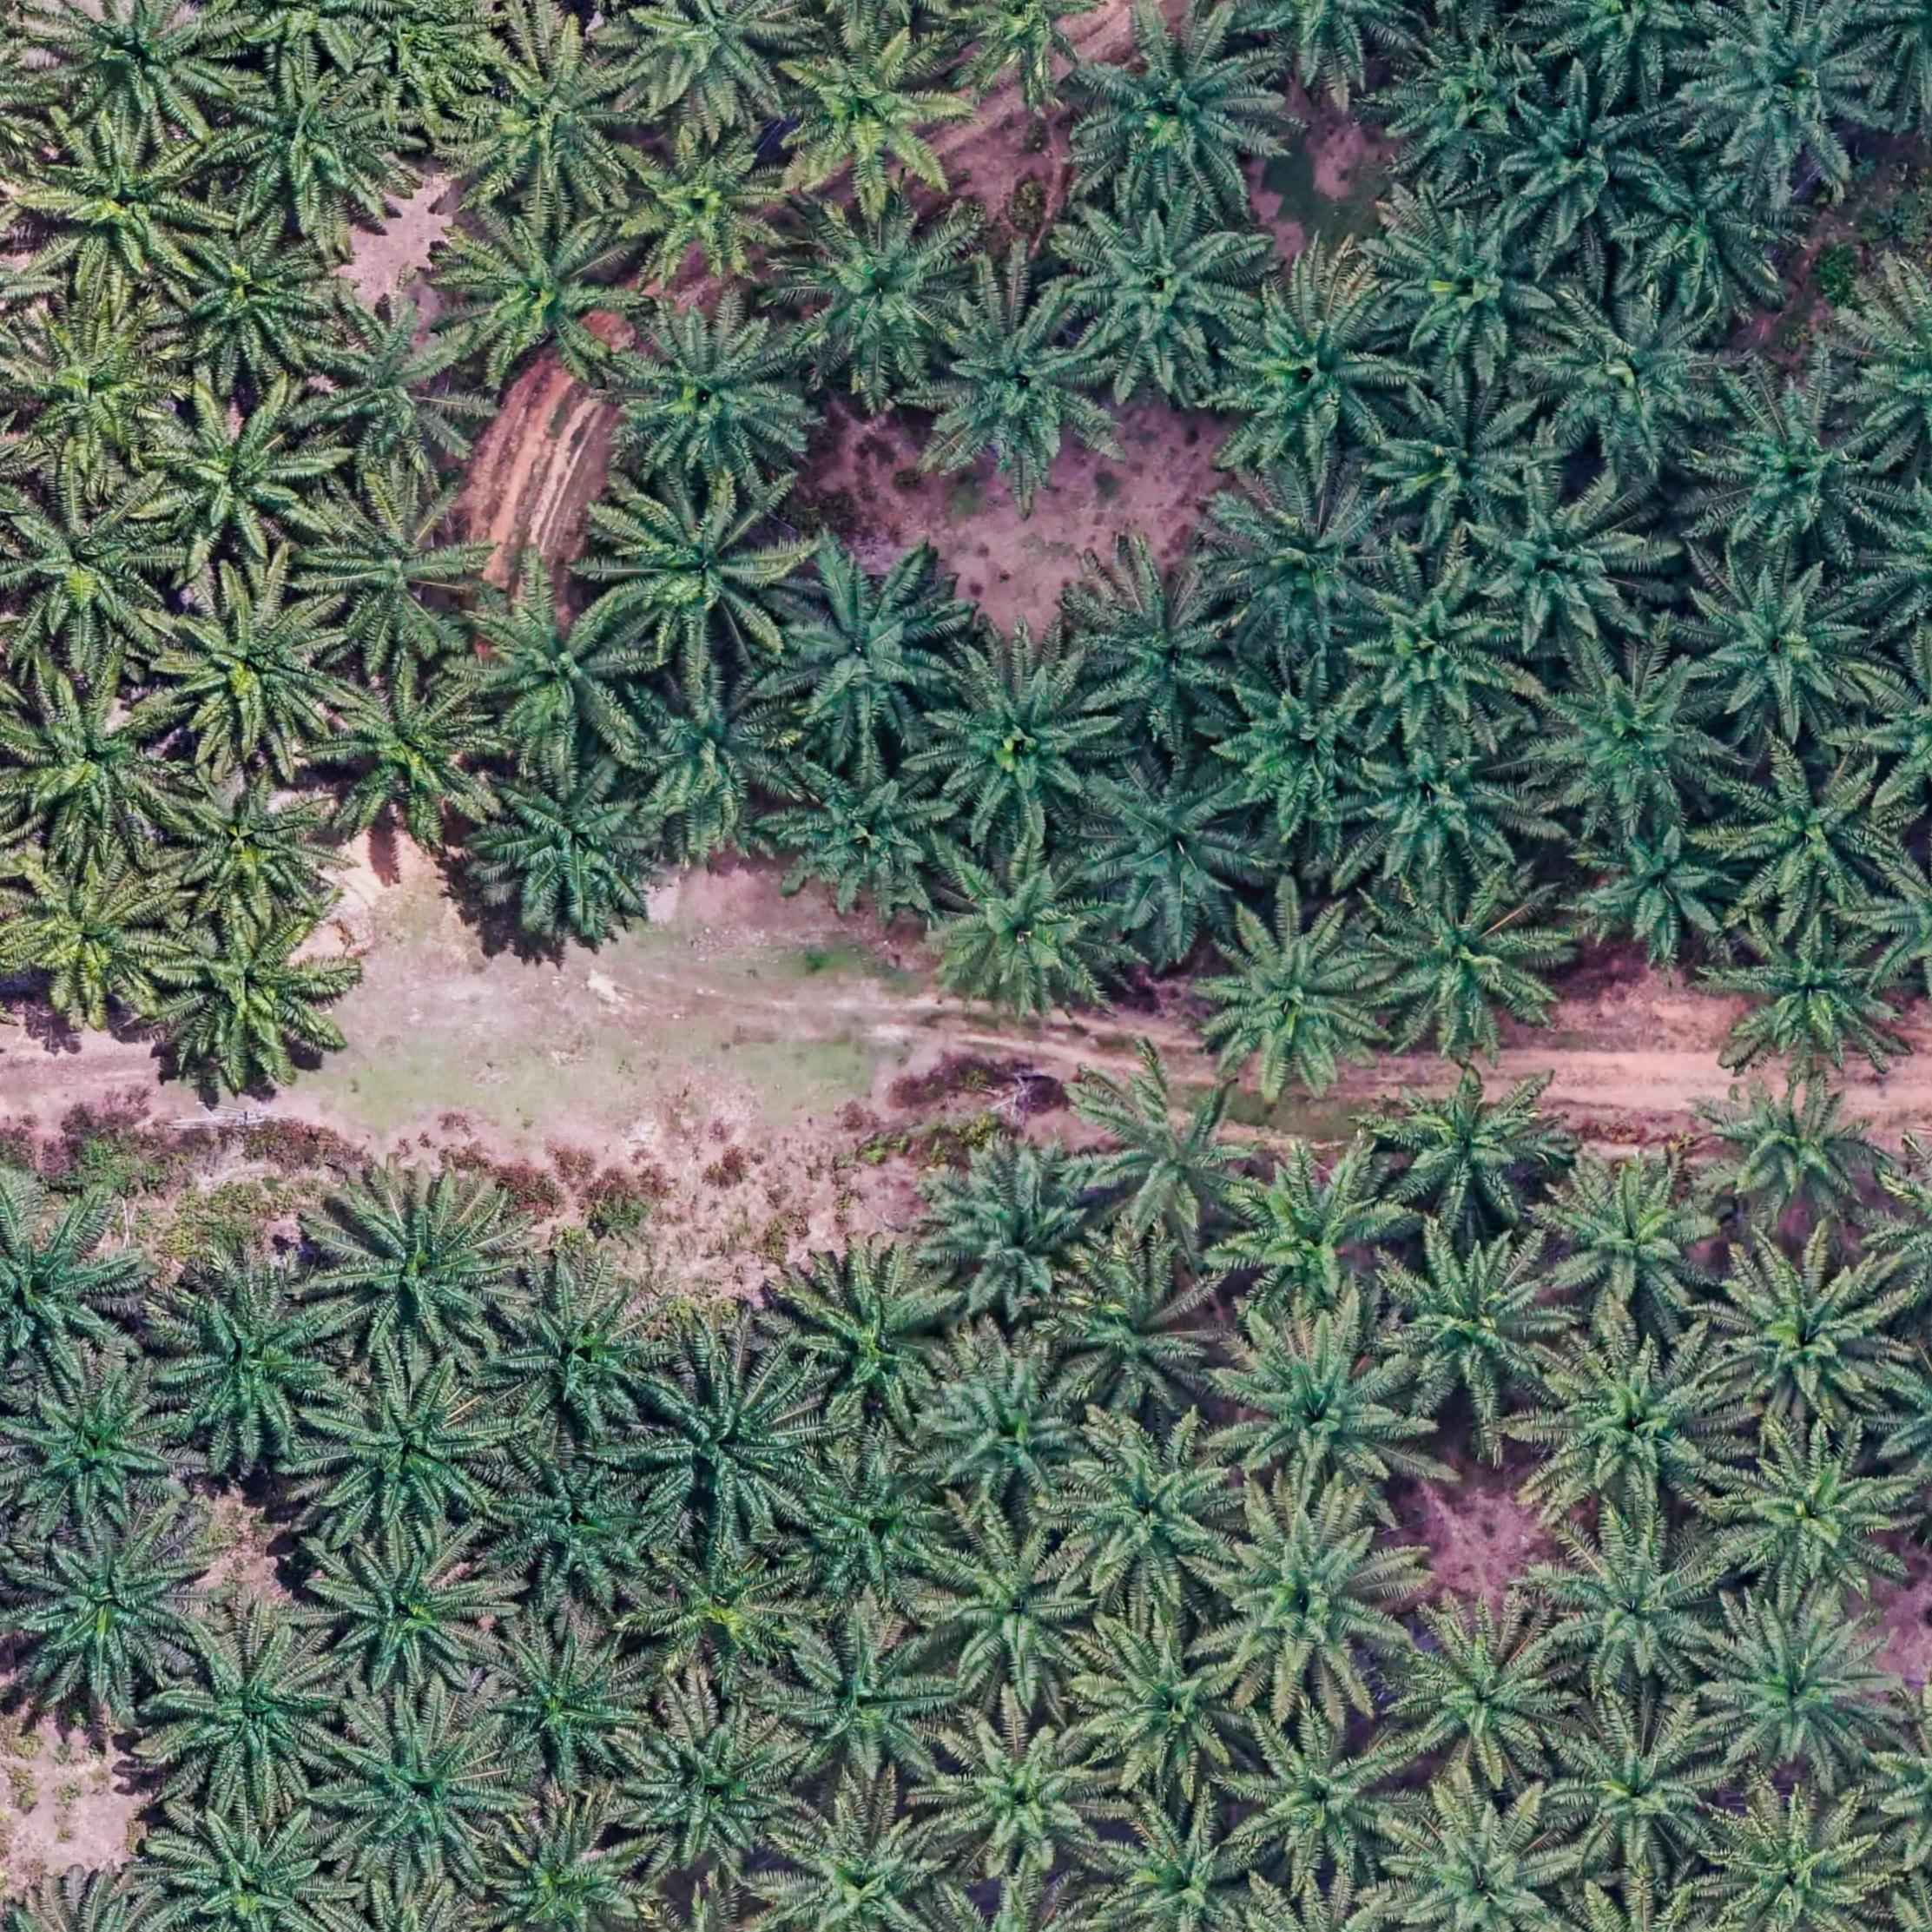palmtree: (1196, 1488, 1422, 1711), (311, 1161, 529, 1366), (1203, 1307, 1424, 1506), (766, 541, 971, 754), (1187, 893, 1396, 1100), (1070, 1040, 1277, 1247), (918, 288, 1123, 495), (1074, 9, 1283, 212), (1527, 1323, 1739, 1522), (1697, 1591, 1905, 1790), (1674, 548, 1888, 740), (925, 639, 1125, 842), (1704, 1240, 1907, 1435), (11, 1513, 214, 1706), (1527, 272, 1730, 465), (1688, 1062, 1904, 1240), (1525, 644, 1732, 830), (1709, 1419, 1916, 1605), (147, 570, 347, 761), (464, 750, 665, 939), (1058, 203, 1261, 391), (1373, 1051, 1582, 1233), (775, 198, 977, 386), (610, 308, 812, 494), (1683, 4, 1890, 184), (1380, 1226, 1578, 1412), (773, 1240, 966, 1430), (154, 1267, 347, 1456), (605, 478, 805, 660), (1366, 869, 1568, 1049), (143, 899, 345, 1077), (1468, 469, 1663, 653), (771, 19, 968, 202), (1081, 750, 1263, 947), (1338, 722, 1537, 901), (1207, 467, 1398, 653), (1233, 1706, 1430, 1886), (1700, 372, 1891, 556), (1537, 1513, 1729, 1697), (768, 745, 968, 920), (617, 1702, 807, 1886), (1058, 1422, 1249, 1605), (1214, 1148, 1410, 1325), (929, 840, 1122, 1019), (632, 1343, 824, 1522), (929, 1711, 1125, 1886), (444, 211, 640, 386), (308, 1366, 504, 1541), (465, 573, 651, 757), (1391, 1605, 1578, 1787), (1339, 559, 1522, 747), (1707, 906, 1907, 1076), (19, 117, 207, 297), (922, 1145, 1113, 1322), (1074, 1612, 1260, 1792), (327, 1704, 513, 1884), (1491, 69, 1679, 248), (315, 665, 502, 844), (1555, 798, 1750, 970), (771, 1615, 957, 1794), (143, 380, 329, 559), (157, 1624, 343, 1803), (1219, 280, 1405, 458), (5, 669, 186, 851), (1537, 1155, 1725, 1330), (1373, 200, 1564, 372), (1539, 1706, 1732, 1875), (313, 478, 492, 660), (1718, 750, 1904, 922), (4, 1368, 188, 1539), (485, 1269, 671, 1438), (218, 58, 405, 226), (310, 1529, 499, 1695), (626, 663, 807, 837), (920, 1520, 1097, 1695), (1207, 667, 1394, 828), (313, 288, 487, 462), (7, 851, 180, 1024), (1077, 557, 1247, 734), (464, 32, 637, 203), (156, 763, 336, 927), (1375, 375, 1550, 541), (619, 126, 796, 290), (5, 478, 175, 648), (0, 1189, 145, 1387), (1053, 1253, 1230, 1414), (2, 313, 179, 472), (478, 1622, 649, 1785), (782, 1444, 959, 1601), (1624, 154, 1798, 313), (1706, 1790, 1895, 1932), (1391, 1790, 1580, 1932), (1387, 16, 1555, 173), (161, 225, 333, 379), (37, 0, 230, 136), (916, 1350, 1097, 1495), (635, 1536, 807, 1688), (1085, 1798, 1272, 1932), (763, 1803, 952, 1932), (483, 1456, 656, 1596), (617, 0, 810, 126), (157, 1810, 338, 1932), (476, 1806, 651, 1932)
